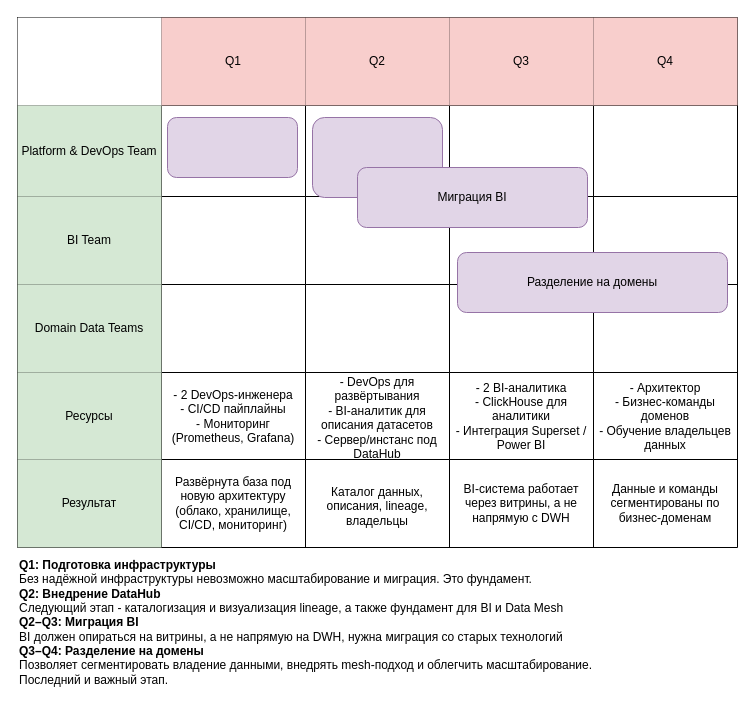
Image size: 755x705. Some labels were removed from this diagram. Here are the shapes that lost their labels. From the top down, the centre of each, then its label:
At (x=232, y=147): "Подготовка инфраструктуры".
At (x=377, y=157): "Внедрение DataHub".
